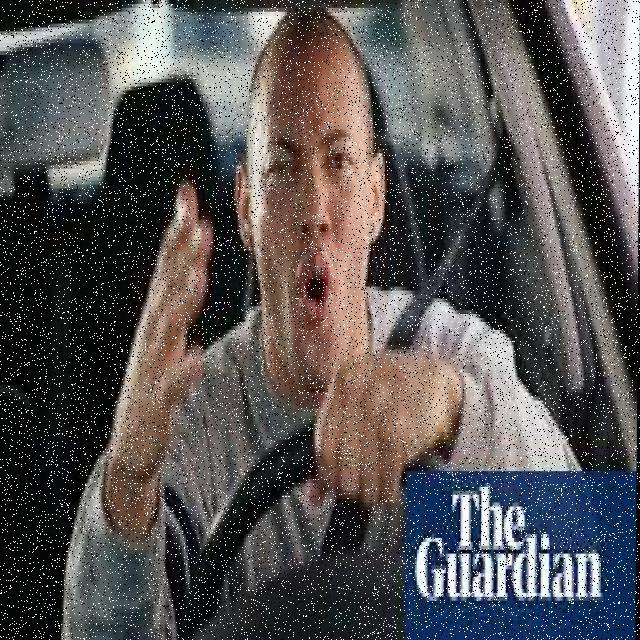seatbelt: (265, 175, 567, 547)
